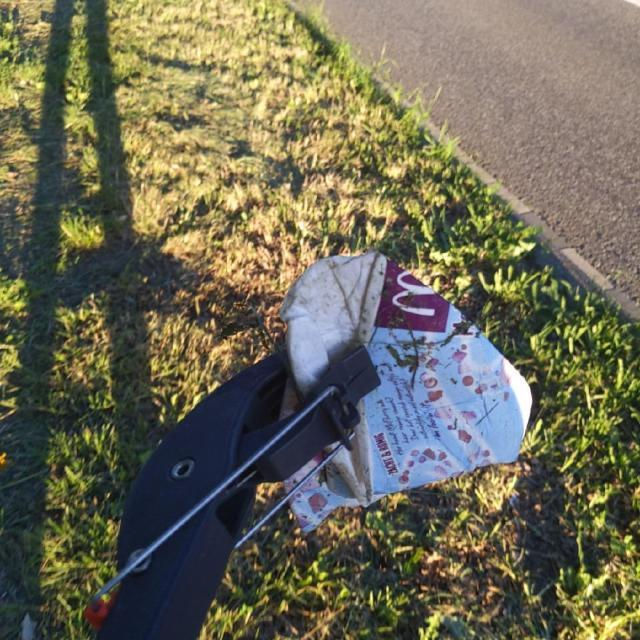Paper: (274, 249, 536, 536)
